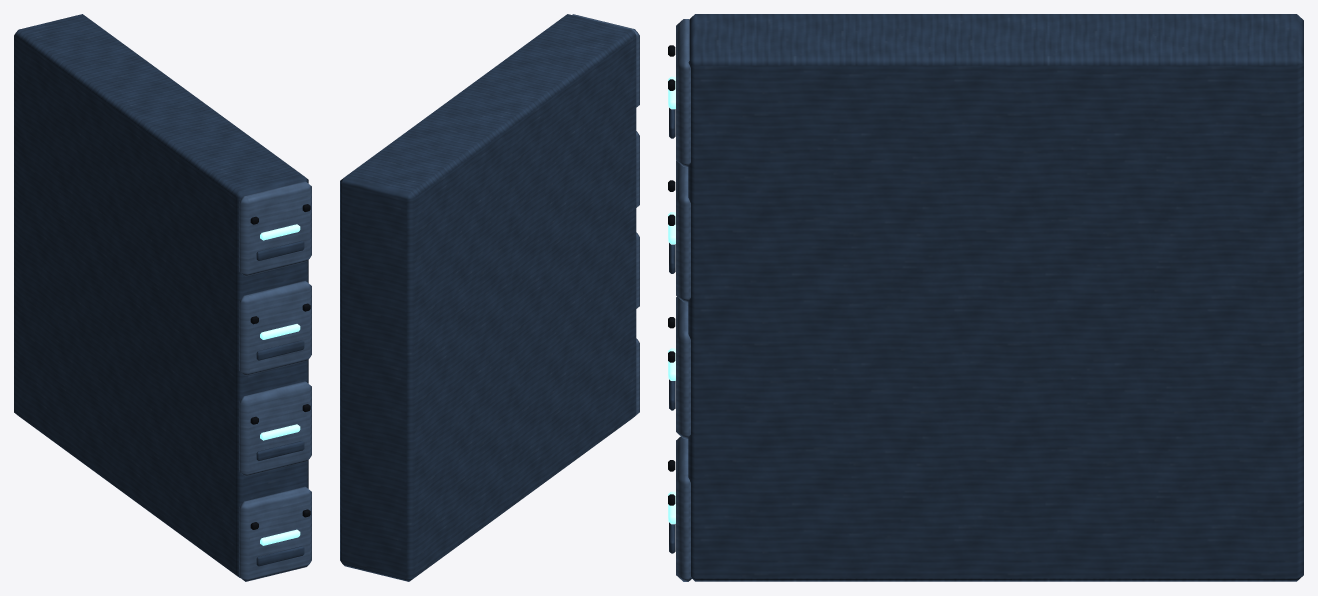
Rendered from sky_dock_wall.glb.
3 views of the same model, side by side, from view 1: azimuth 30°, elevation 25°; view 2: azimuth 150°, elevation 25°; view 3: azimuth 270°, elevation 25° (orthographic). The views are drawn at different scales.
Visible parts, largest first — view 1: sky_dock_wall - sky_dock panels, sky_dock_wall - sky_dock trim, sky_dock_wall - sky_dock accents, sky_dock_wall - Recessed iron; view 2: sky_dock_wall - sky_dock panels, sky_dock_wall - sky_dock trim; view 3: sky_dock_wall - sky_dock panels, sky_dock_wall - sky_dock trim.
Part boxes in pixels (left/top/right/bottom): sky_dock_wall - sky_dock panels: left=14, top=14, right=308, bottom=577; sky_dock_wall - sky_dock trim: left=239, top=181, right=311, bottom=581; sky_dock_wall - sky_dock accents: left=260, top=224, right=300, bottom=545; sky_dock_wall - Recessed iron: left=250, top=204, right=310, bottom=529; sky_dock_wall - sky_dock panels: left=340, top=14, right=636, bottom=581; sky_dock_wall - sky_dock trim: left=572, top=14, right=639, bottom=414; sky_dock_wall - sky_dock panels: left=669, top=14, right=1303, bottom=581; sky_dock_wall - sky_dock trim: left=676, top=19, right=691, bottom=581.
Size of the model in its own units: 0.79 by 4.01 by 4.39.
4 materials, 3 textured.
